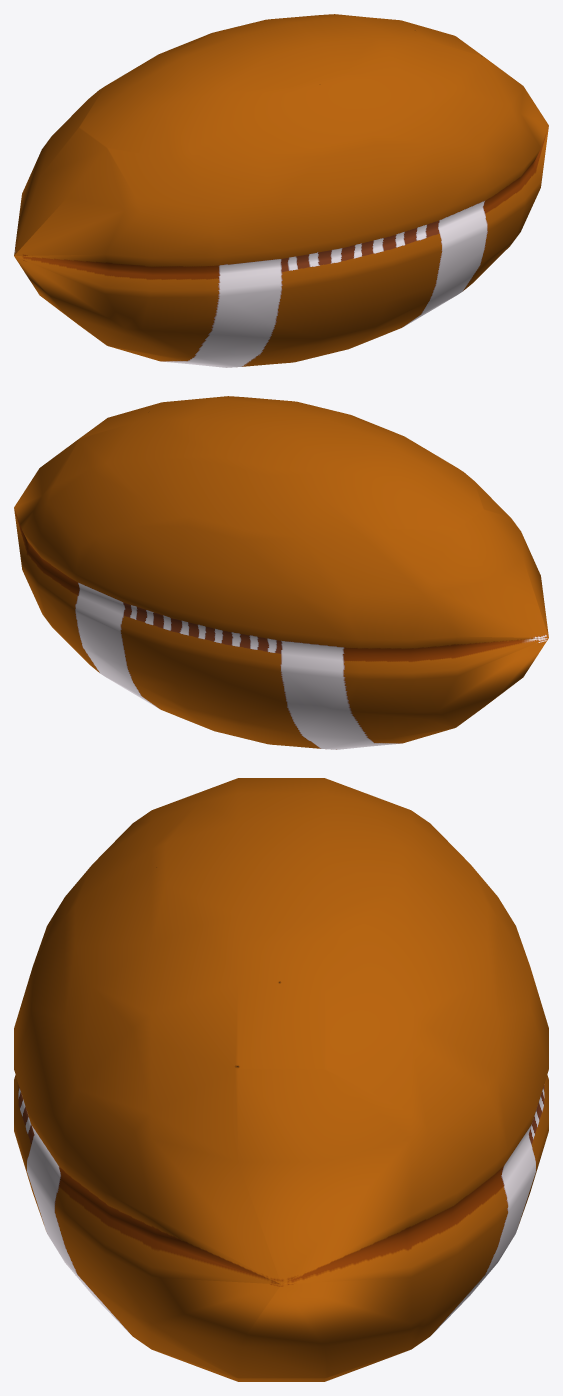
The model's file is football.fbx.
3 renders of one model, top to bottom at view 1: azimuth 30°, elevation 25°; view 2: azimuth 150°, elevation 25°; view 3: azimuth 270°, elevation 25°, orthographic. The views are drawn at different scales.
Parts seen in each view (by area): view 1: Mball.001; view 2: Mball.001; view 3: Mball.001.
Part boxes in pixels (x1,y1,x2,y2): Mball.001: (14, 14, 548, 367); Mball.001: (14, 396, 548, 749); Mball.001: (14, 778, 548, 1381).
Bounding box in the file's own units: 78.03 × 42.2 × 43.24.
